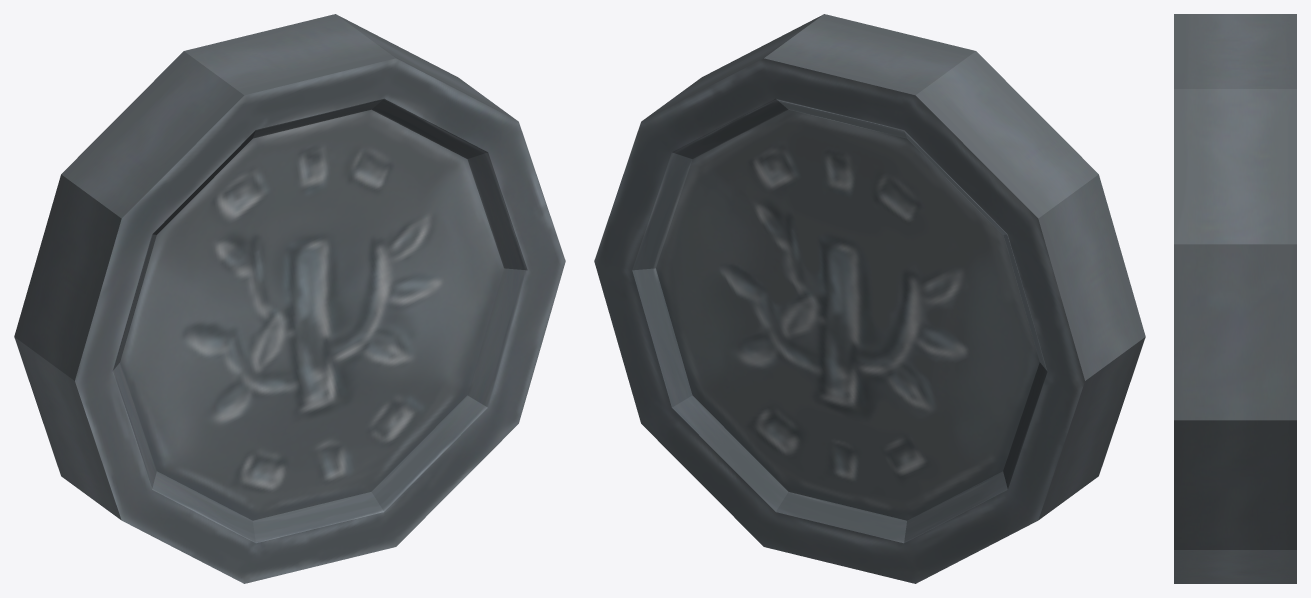
Rendered from coin.fbx.
The picture shows the model from 3 angles, left to right: view 1: azimuth 30°, elevation 25°; view 2: azimuth 150°, elevation 25°; view 3: azimuth 270°, elevation 25°; orthographic projection.
Visible parts, largest first — view 1: pCylinder1; view 2: pCylinder1; view 3: pCylinder1.
Part boxes in pixels (box(x1,y1,x2,y2)): pCylinder1: box(14, 14, 565, 583); pCylinder1: box(594, 14, 1145, 583); pCylinder1: box(1174, 14, 1296, 583).
Bounding box in the file's own units: 57.77 × 54.94 × 12.35.
